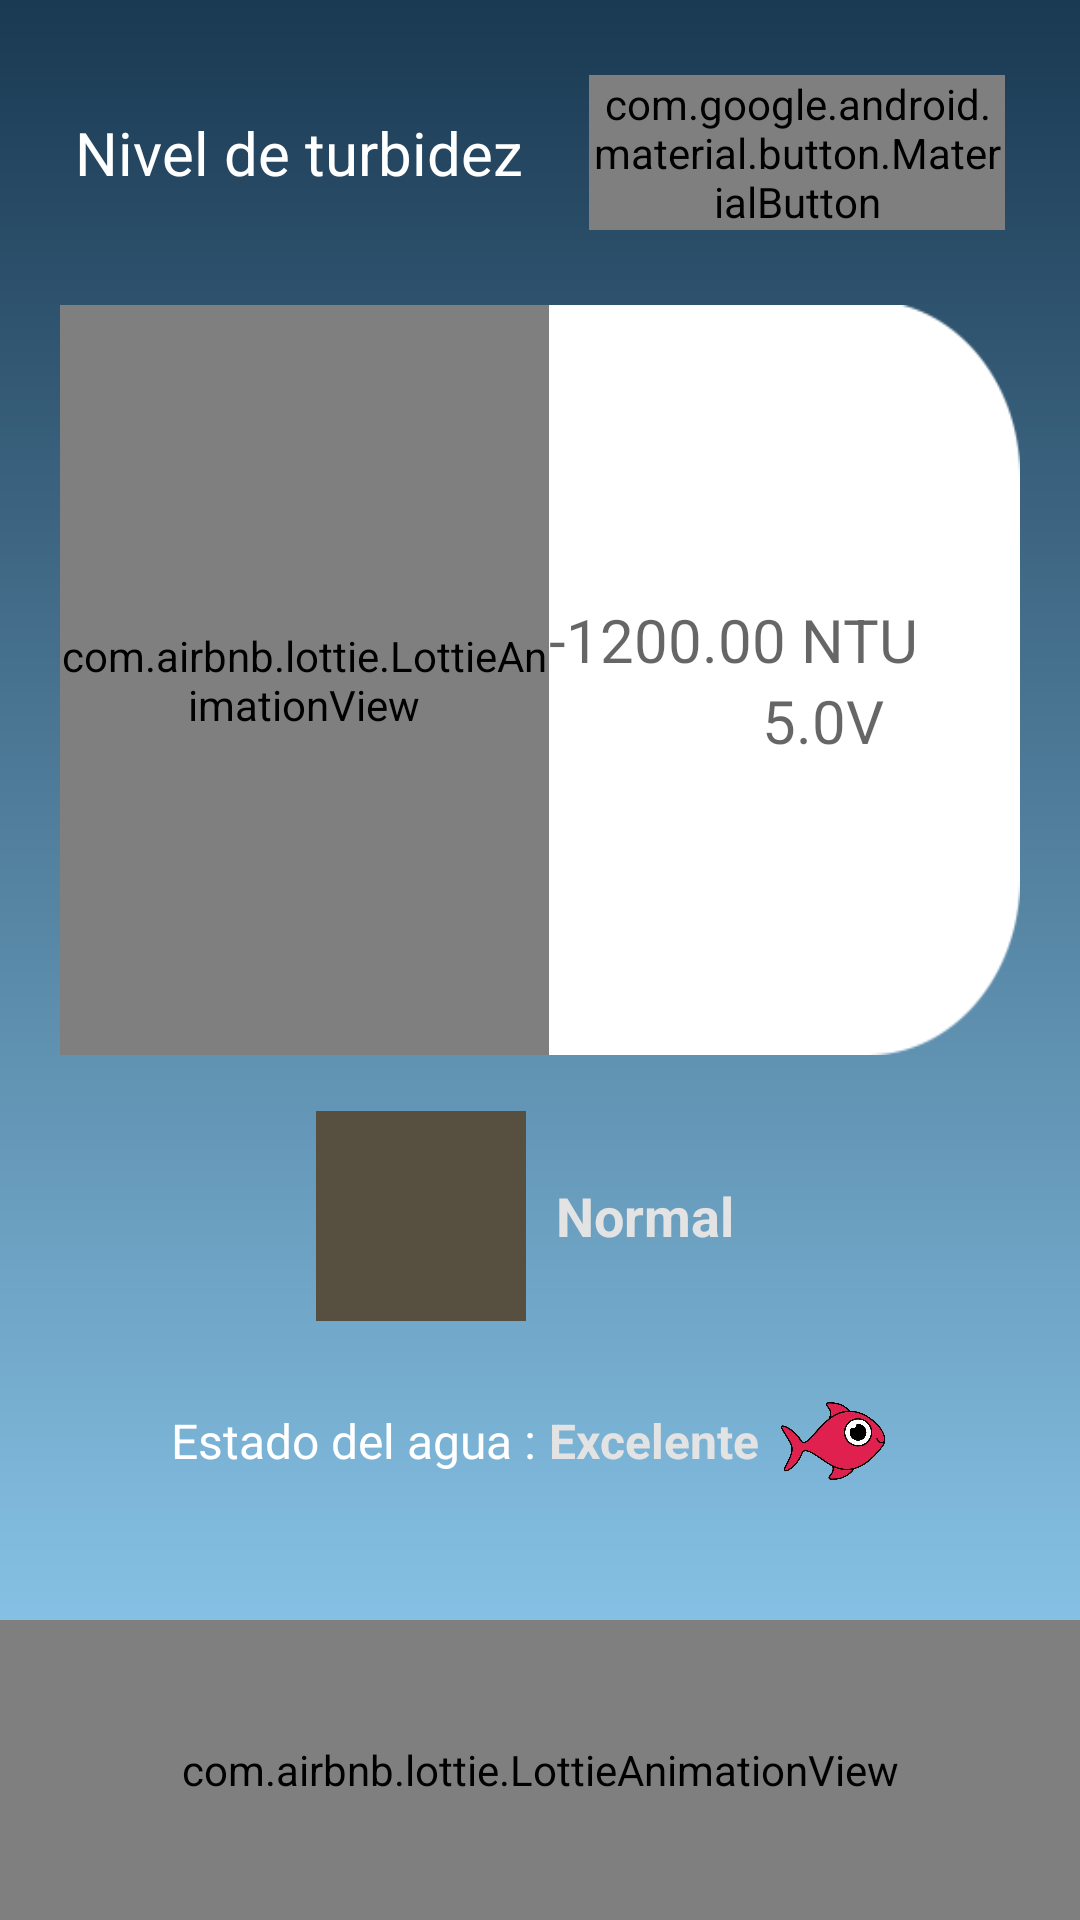

Icon click points for this 1080×1920 phone screenshot, format (x=x, y=y):
pezbien: (x=833, y=1441)
